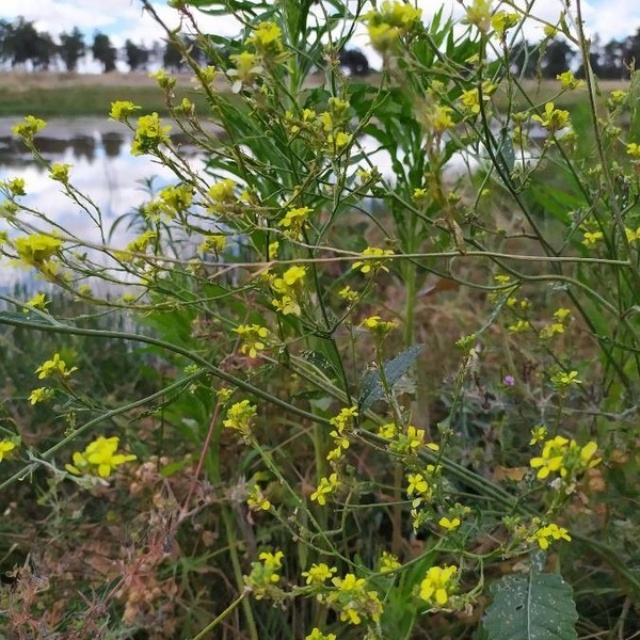obstacle: (68, 84, 565, 605)
